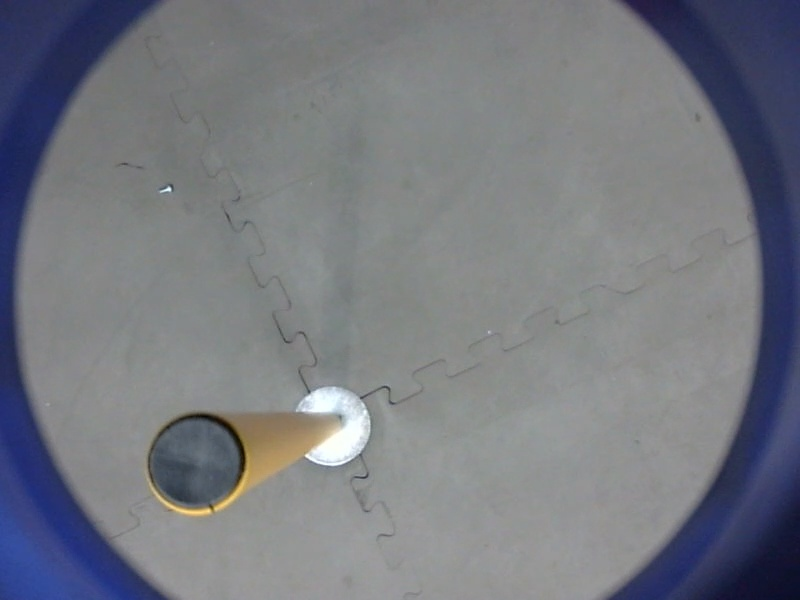tip: (137, 407, 254, 523)
